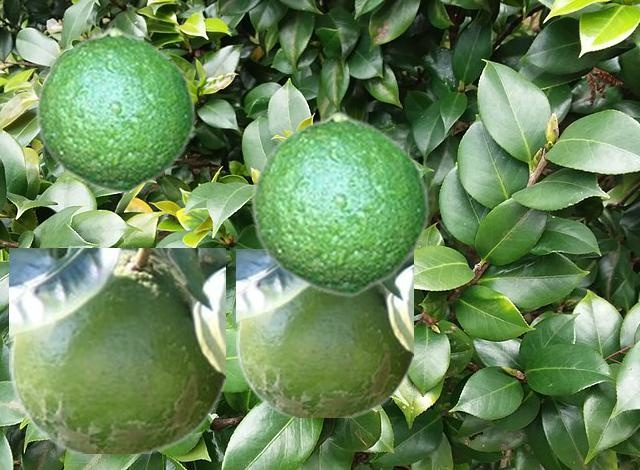dalandan: (9, 248, 224, 452), (249, 110, 429, 296), (236, 249, 412, 416), (34, 26, 195, 193)
